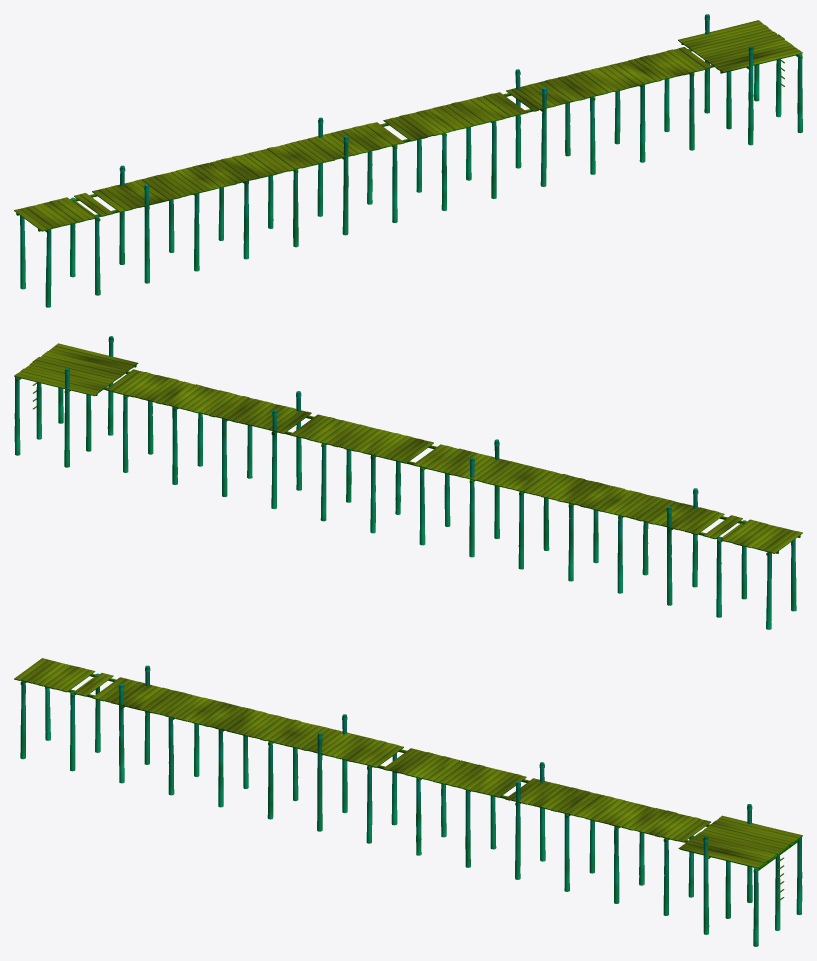
File: dock_haluna.glb
The picture shows the model from 3 angles, top to bottom: view 1: azimuth 30°, elevation 25°; view 2: azimuth 150°, elevation 25°; view 3: azimuth 330°, elevation 25°; orthographic projection.
Parts seen in each view (by area): view 1: dock_haluna; view 2: dock_haluna; view 3: dock_haluna.
Part boxes in pixels (left/top/right/bottom): dock_haluna: left=14, top=14, right=802, bottom=307; dock_haluna: left=14, top=336, right=802, bottom=629; dock_haluna: left=14, top=658, right=802, bottom=946.
Size of what is drawn, in the model's own units: 38.08 by 4.7 by 4.09.
